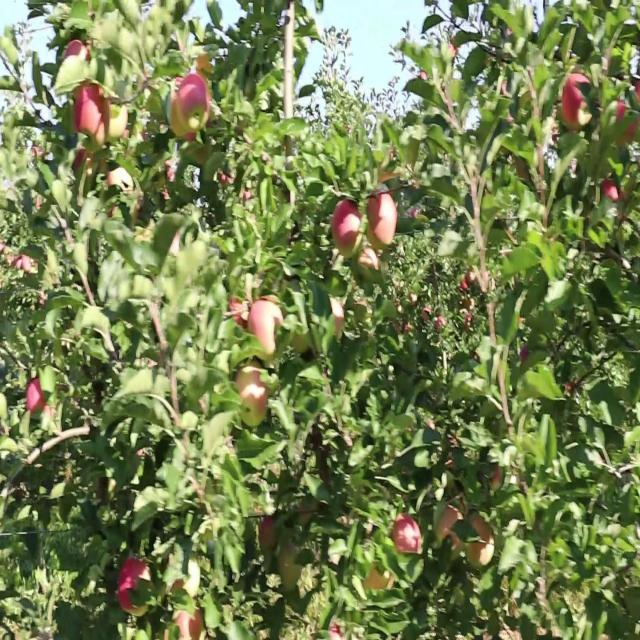apple: (172, 78, 212, 142), (236, 362, 269, 425), (252, 298, 284, 361), (368, 191, 399, 251), (72, 85, 105, 139), (120, 561, 151, 617), (332, 199, 362, 256), (564, 78, 592, 132), (616, 85, 640, 148), (392, 511, 422, 556), (468, 519, 494, 567), (600, 177, 627, 222), (616, 99, 640, 148), (440, 504, 465, 546), (364, 561, 393, 594), (280, 547, 303, 588), (168, 554, 187, 601), (356, 248, 381, 281), (176, 611, 204, 639), (600, 177, 623, 210), (28, 376, 47, 414), (228, 298, 249, 332), (64, 42, 91, 64), (260, 519, 276, 551), (332, 298, 345, 336), (76, 149, 94, 176), (44, 405, 55, 425), (520, 348, 530, 364)
